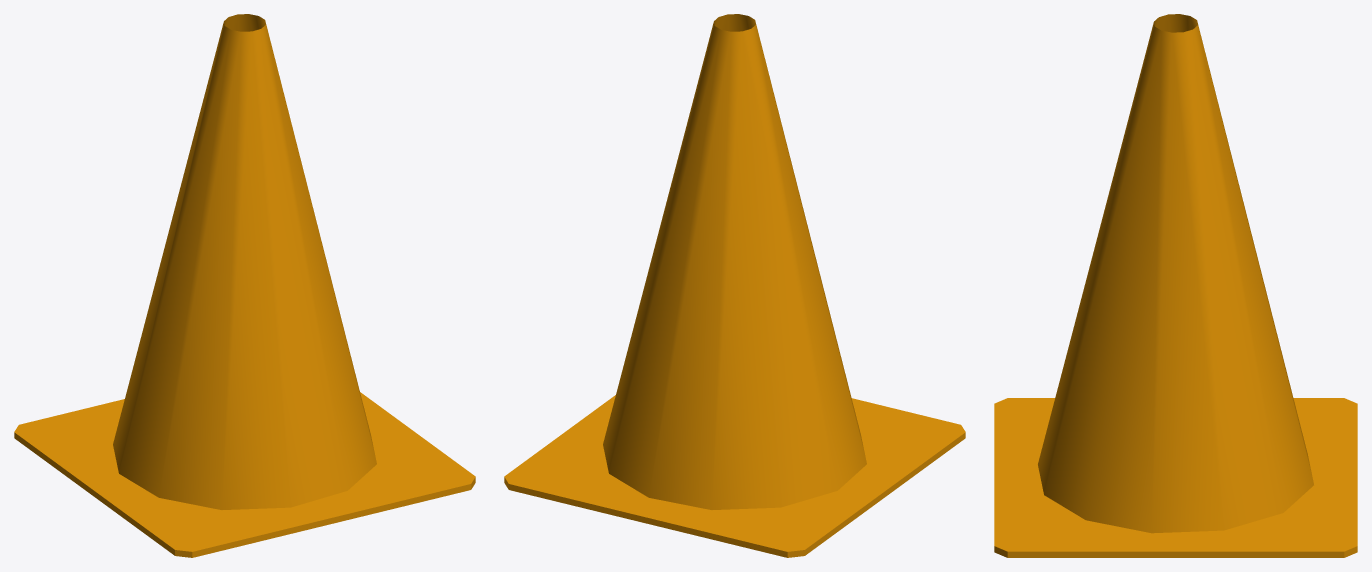
The picture shows the model from 3 angles, left to right: view 1: azimuth 30°, elevation 25°; view 2: azimuth 150°, elevation 25°; view 3: azimuth 270°, elevation 25°; orthographic projection. The views are drawn at different scales.
Parts seen in each view (by area): view 1: SketchUp (×2); view 2: SketchUp (×2); view 3: SketchUp (×2).
Part boxes in pixels (left/top/right/bottom): SketchUp (×2): left=14, top=14, right=475, bottom=557; SketchUp (×2): left=504, top=14, right=965, bottom=557; SketchUp (×2): left=994, top=14, right=1357, bottom=557.
Size of the model in its own units: 12.95 by 12.95 by 18.
